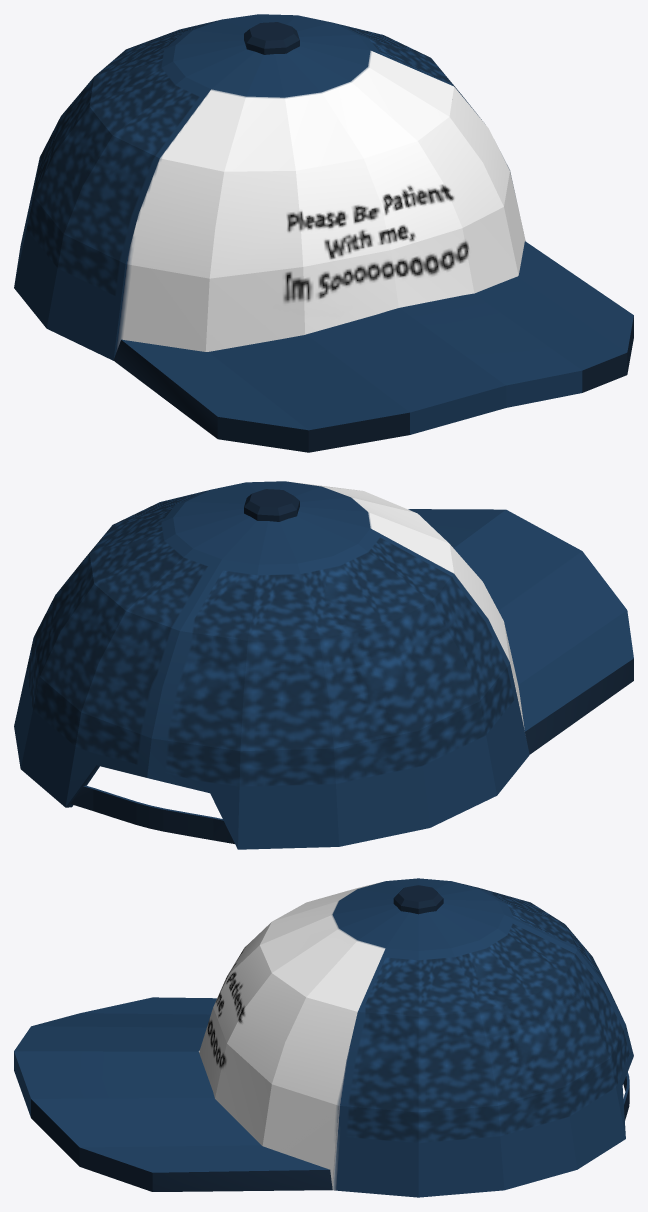
The model's file is hat_trucker_im_sooo.glb.
3 views of the same model, one above another, from view 1: azimuth 30°, elevation 25°; view 2: azimuth 150°, elevation 25°; view 3: azimuth 270°, elevation 25° (orthographic). The views are drawn at different scales.
Parts seen in each view (by area): view 1: Hatmodel; view 2: Hatmodel; view 3: Hatmodel.
Part boxes in pixels (x1,y1,x2,y2): Hatmodel: [14, 14, 633, 452]; Hatmodel: [14, 481, 633, 849]; Hatmodel: [14, 878, 633, 1197].
Bounding box in the file's own units: 5.28 × 2.74 × 7.29.
2 materials, 2 textured.
